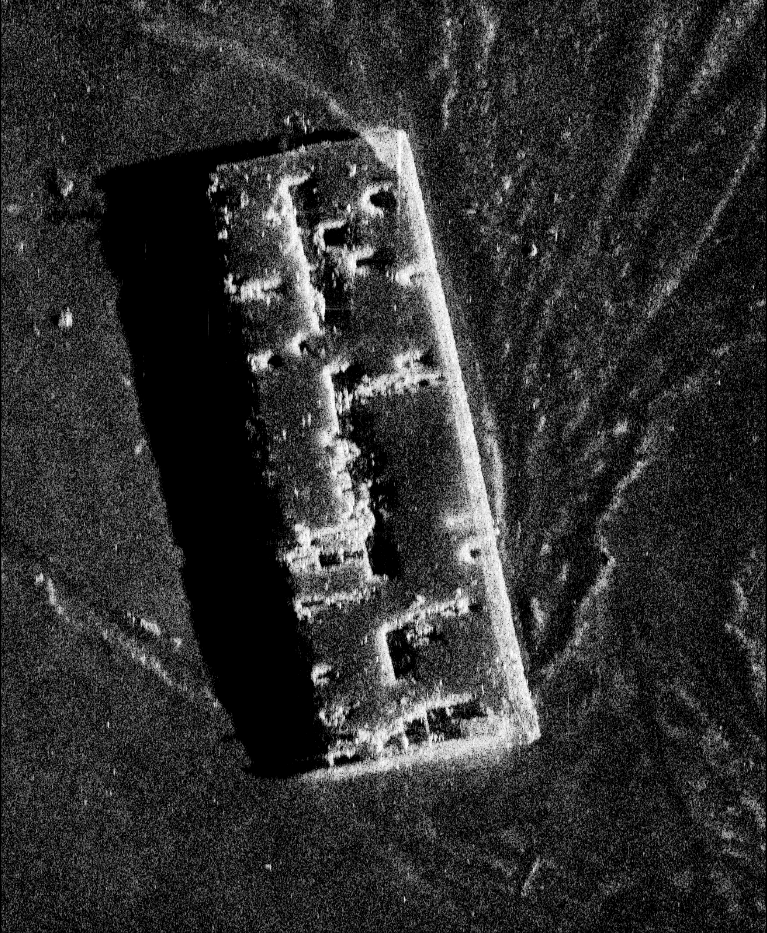ship: (203, 124, 541, 780)
